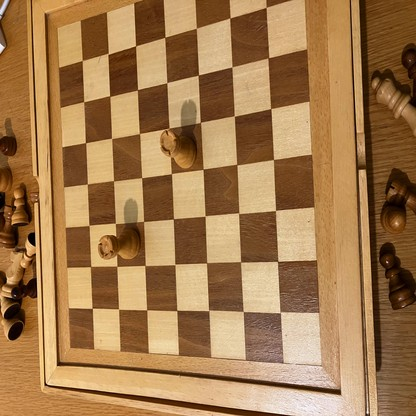knight_black: (2, 252, 24, 296)
pawn_black: (380, 247, 416, 309)
pawn_white: (381, 203, 406, 233), (13, 187, 29, 225), (22, 234, 38, 269)
queen_white: (373, 72, 416, 133)
rock_black: (386, 172, 416, 210)
rock_white: (99, 225, 140, 259), (162, 132, 199, 167)
